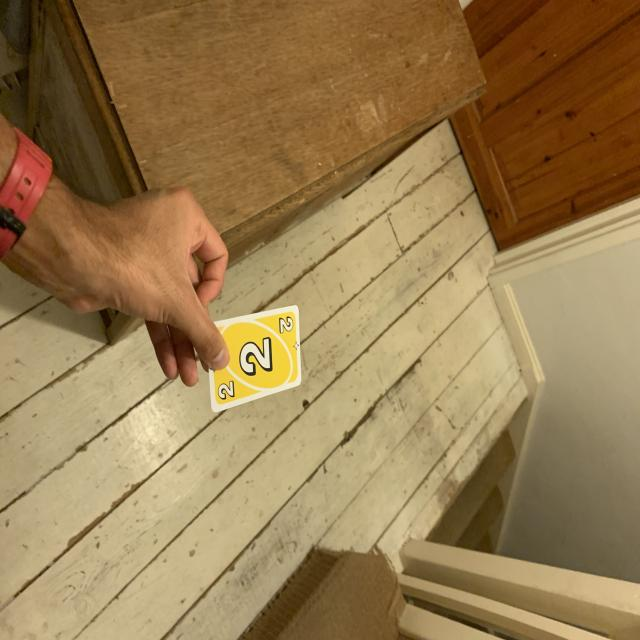lyellow-2: (274, 314, 296, 336)
